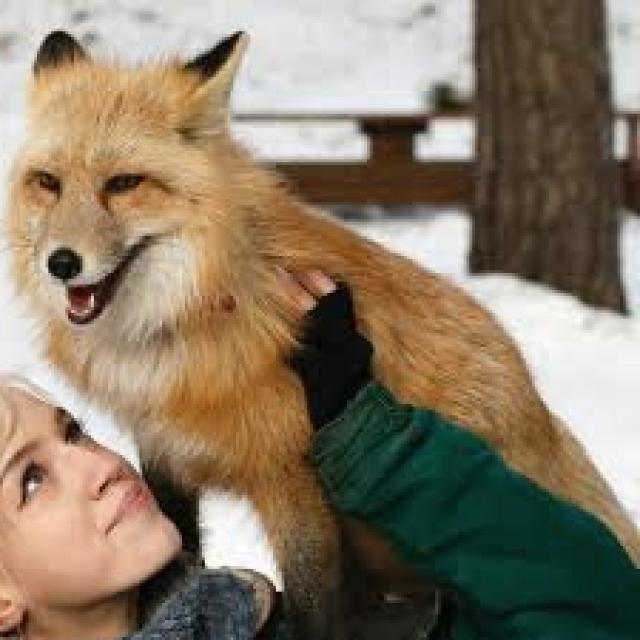fox: (9, 31, 640, 637)
